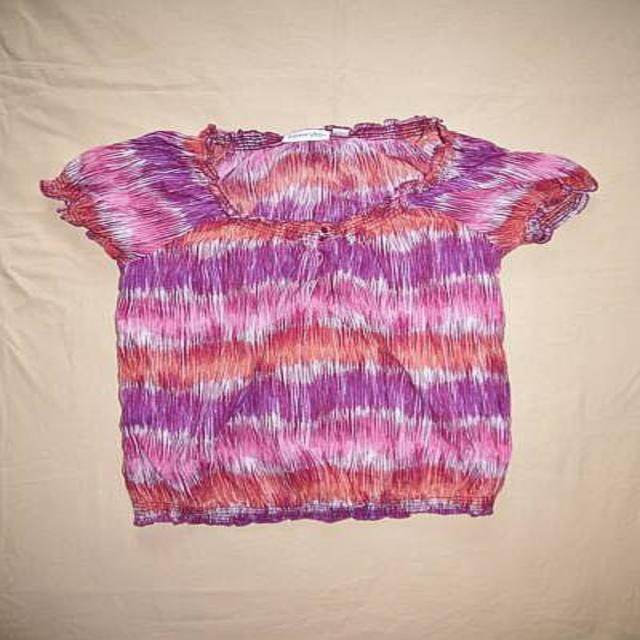T_SHIRT: (27, 106, 613, 537)
